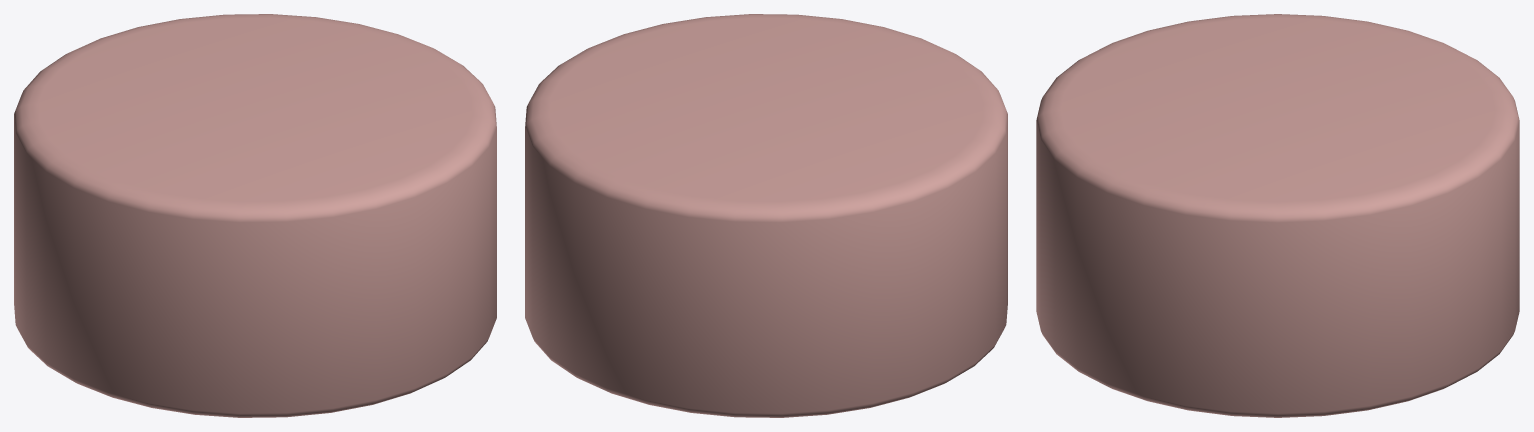
Rendered from outerfrosting_12.glb.
3 renders of one model, left to right at view 1: azimuth 30°, elevation 25°; view 2: azimuth 150°, elevation 25°; view 3: azimuth 270°, elevation 25°, orthographic.
Visible parts, largest first — view 1: 12_OuterFrosting; view 2: 12_OuterFrosting; view 3: 12_OuterFrosting.
Boxes of the visible parts, x1=… form: 12_OuterFrosting: x1=14, y1=14, x2=496, y2=417; 12_OuterFrosting: x1=525, y1=14, x2=1007, y2=417; 12_OuterFrosting: x1=1036, y1=14, x2=1519, y2=417.
Size of the model in its own units: 0.31 by 0.15 by 0.31.
